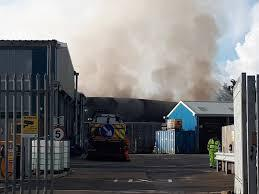smoke: (62, 0, 229, 103)
